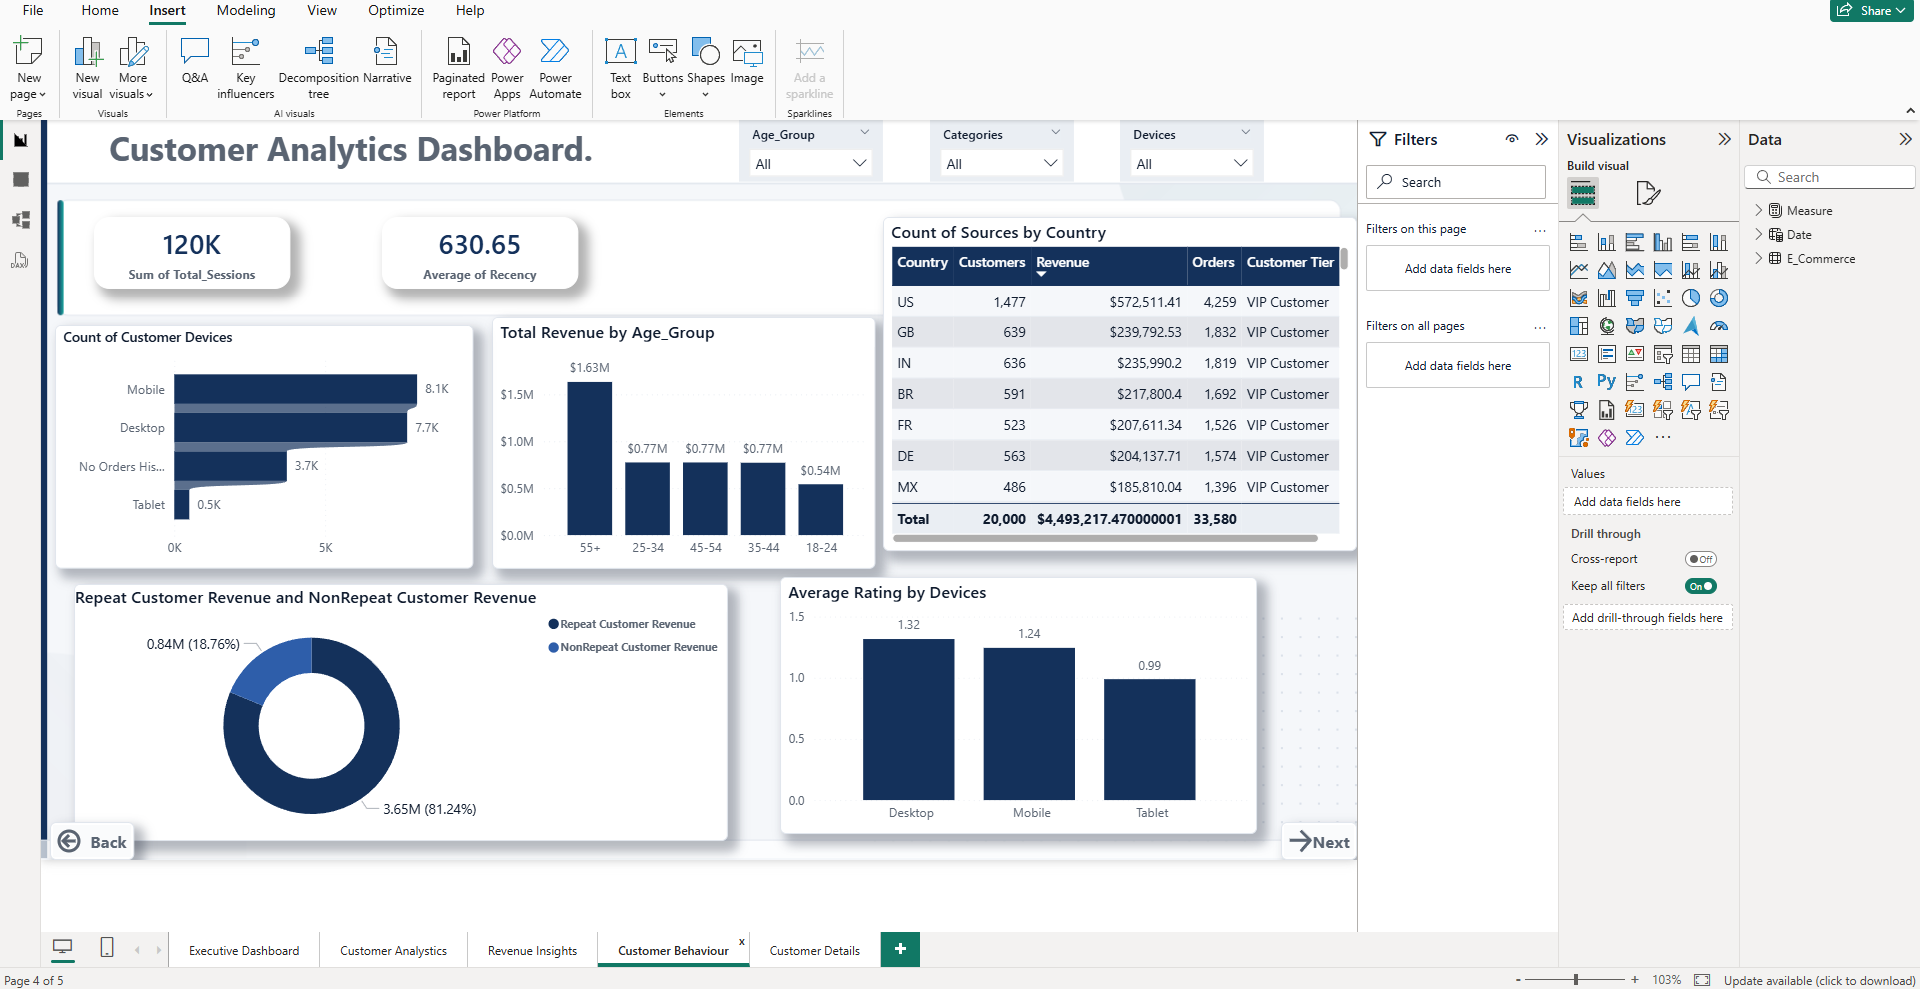

What the dashboard file says about the page in this screenshot:
{"tool":"powerbi","page":{"name":"Customer Behaviour","canvas":[1280,720],"ordinal":3},"visuals":[{"type":"textbox","box":[61.3,0,535,63.2],"z":0},{"type":"card","fields":{"Values":["Sum(E_Commerce.Total_Sessions)"]},"box":[51.6,94.3,190.6,70],"z":1000},{"type":"card","fields":{"Values":["Avg(E_Commerce.Recency)"]},"box":[331.7,94.3,190.6,70],"z":2000},{"type":"clusteredColumnChart","fields":{"Category":["E_Commerce.Age_Group"],"Y":["Measure.Total Revenue"]},"box":[438.7,191.6,373.5,245.1],"z":3000},{"type":"barChart","title":"Count of Customer Devices","fields":{"Category":["E_Commerce.Preferred_Device_Ord"],"Y":["CountNonNull(E_Commerce.Customer_Id)"]},"box":[13.6,199.4,406.6,237.3],"z":4000},{"type":"columnChart","title":"Average Rating by Devices","fields":{"Category":["E_Commerce.Preferred_Device_Ord"],"Y":["Measure.Average Rating"]},"box":[718.8,444.5,464,250],"z":5000},{"type":"donutChart","fields":{"Y":["Measure.Repeat Customer Revenue","Measure.NonRepeat Customer Revenue"]},"box":[32.1,451.3,636.1,250],"z":6000},{"type":"tableEx","title":"Count of  Sources by Country","fields":{"Values":["E_Commerce.Country","CountNonNull(E_Commerce.Customer_Id)","Measure.Total Revenue","Measure.Total Orders","E_Commerce.Tenure_Category"]},"box":[819,94.3,461,324.9],"z":7000},{"type":"slicer","fields":{"Values":["E_Commerce.Age_Group"]},"box":[678.9,0,140.1,60.3],"z":8000},{"type":"slicer","fields":{"Values":["E_Commerce.Spending_Category"]},"box":[864.2,0,140.1,60.3],"z":9000},{"type":"slicer","fields":{"Values":["E_Commerce.Preferred_Device_Ord"]},"box":[1049.5,0,140.1,60.3],"z":10000},{"type":"actionButton","box":[1206.1,682.8,73.9,37],"z":10001},{"type":"actionButton","box":[8.8,682.8,81.7,37],"z":10002}]}

Visuals, with their boxes on the page's 1280x720 design canvas (x1, y1, x2, y2). These are canvas units, not pixel positions in the 1920x989 screenshot, which may show the page scaled, cropped or inside an application window:
textbox: 61:0:596:63
card - Sum(E_Commerce.Total_Sessions): 52:94:242:164
card - Avg(E_Commerce.Recency): 332:94:522:164
clusteredColumnChart - E_Commerce.Age_Group x Measure.Total Revenue: 439:192:812:437
"Count of Customer Devices" barChart: 14:199:420:437
"Average Rating by Devices" columnChart: 719:444:1183:694
donutChart - Measure.Repeat Customer Revenue x Measure.NonRepeat Customer Revenue: 32:451:668:701
"Count of  Sources by Country" tableEx: 819:94:1280:419
slicer - E_Commerce.Age_Group: 679:0:819:60
slicer - E_Commerce.Spending_Category: 864:0:1004:60
slicer - E_Commerce.Preferred_Device_Ord: 1050:0:1190:60
actionButton: 1206:683:1280:720
actionButton: 9:683:90:720
